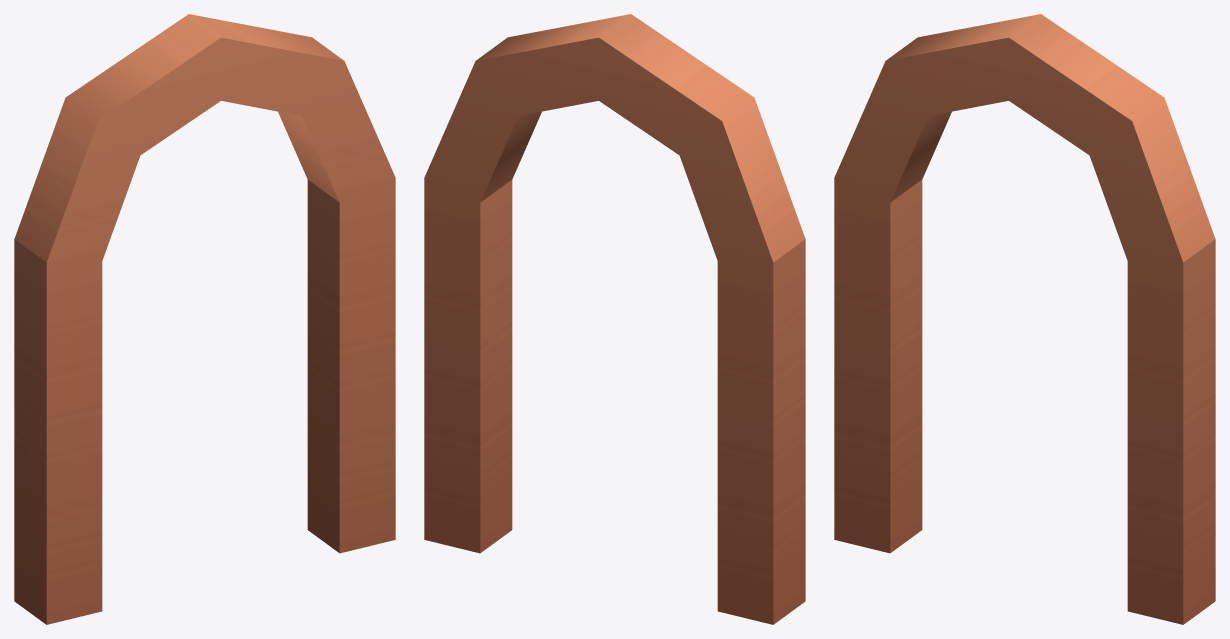
Rendered from window-brown-round-top.glb.
The picture shows the model from 3 angles, left to right: view 1: azimuth 30°, elevation 25°; view 2: azimuth 150°, elevation 25°; view 3: azimuth 330°, elevation 25°; orthographic projection.
Parts seen in each view (by area): view 1: window-brown-round-top; view 2: window-brown-round-top; view 3: window-brown-round-top.
Part boxes in pixels (box(x1,y1,x2,y2)): window-brown-round-top: box(14, 14, 395, 624); window-brown-round-top: box(424, 14, 805, 624); window-brown-round-top: box(834, 14, 1215, 624).
Bounding box in the file's own units: 0.3125 × 0.4662 × 0.05.
Materials: 1 (1 with a texture image).
